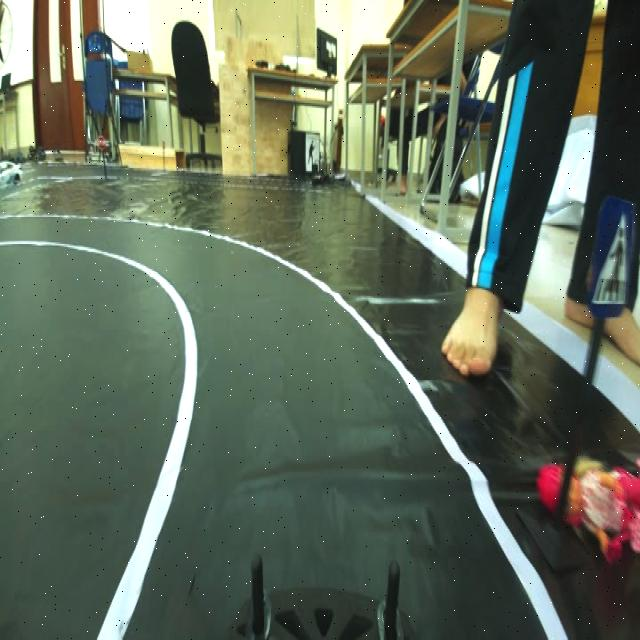crosswalk: (586, 187, 635, 318)
